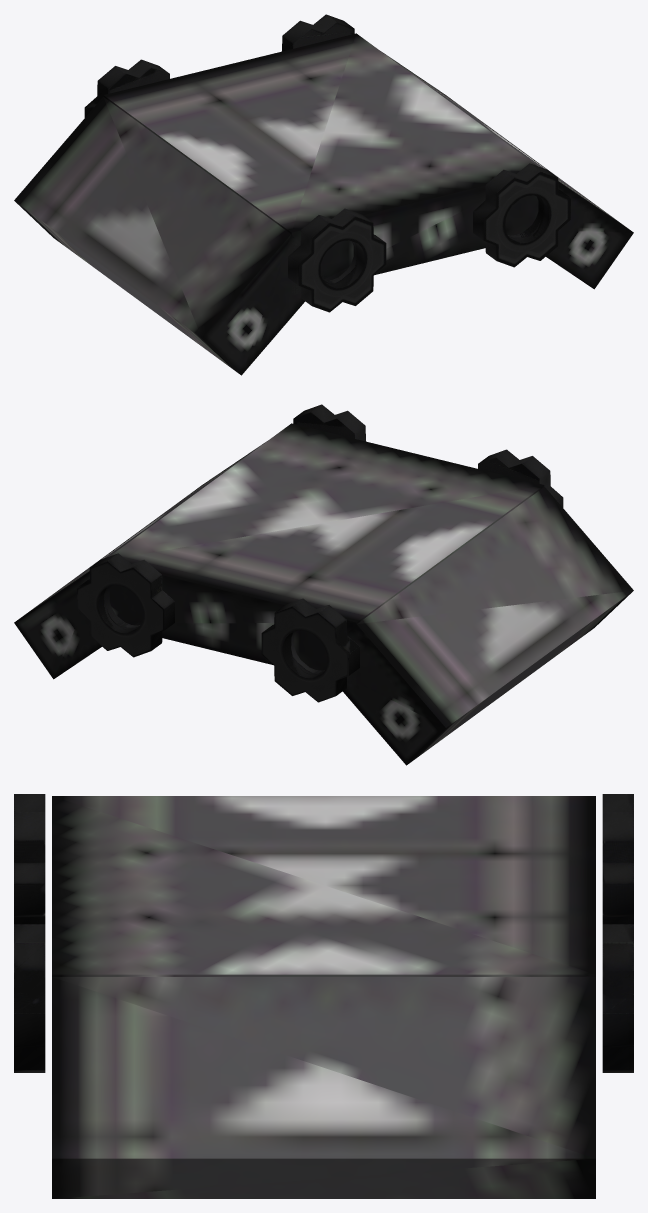
File: Meshy_AI__0518194248_texture.fbx
3 renders of one model, top to bottom at view 1: azimuth 30°, elevation 25°; view 2: azimuth 150°, elevation 25°; view 3: azimuth 270°, elevation 25°, orthographic. The views are drawn at different scales.
Parts seen in each view (by area): view 1: Mesh_0; view 2: Mesh_0; view 3: Mesh_0.
Boxes of the visible parts, box(x1,y1,x2,y2) form: Mesh_0: box(14, 14, 633, 375); Mesh_0: box(14, 404, 633, 765); Mesh_0: box(14, 794, 633, 1198).
Bounding box in the file's own units: 3.13 × 1 × 2.69.
1 material, 1 textured.
